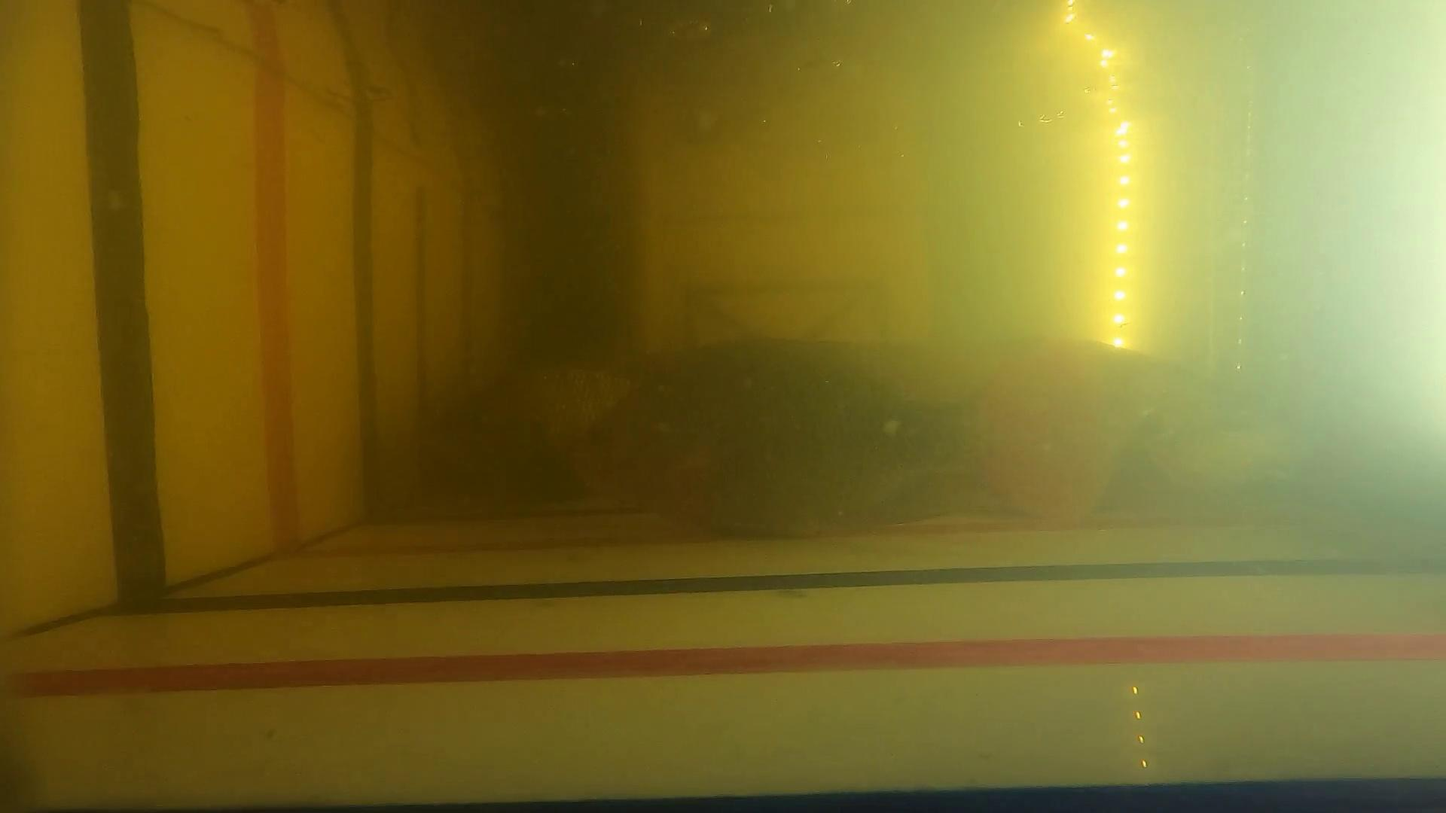Tilapia: (561, 342, 1127, 538)
